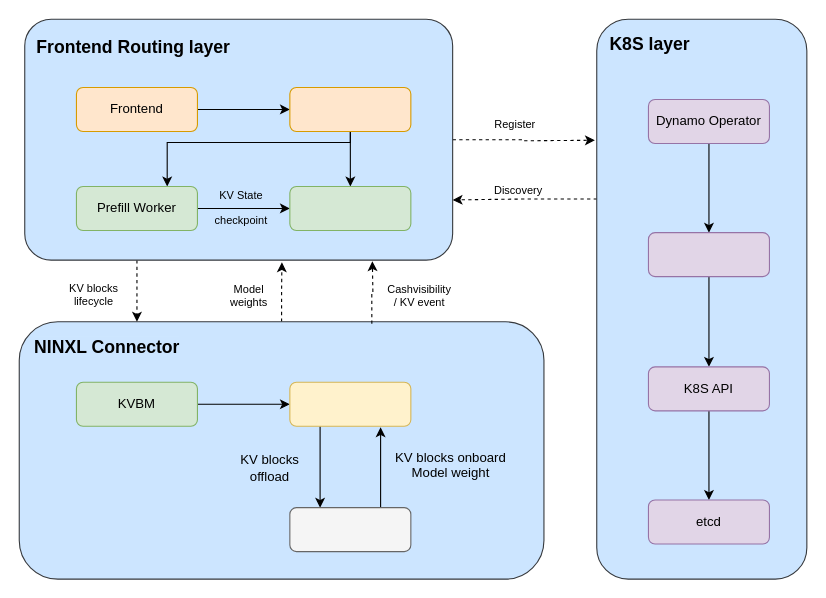
The diagram is 826 pixels wide and 598 high, and some of its shapes have lost their labels. Each missing label, with the centre of its shape:
"Custom Resource" goes at [708,254].
"Decode Worker" goes at [350,207].
"NIXIL" goes at [350,403].
"Router" goes at [350,108].
"Storage" goes at [350,529].
